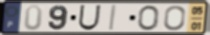0: (23, 4, 44, 32)
9: (47, 4, 69, 32)
I: (108, 4, 118, 32)
O: (162, 5, 187, 32), (137, 5, 160, 32)
U: (77, 4, 103, 31)
